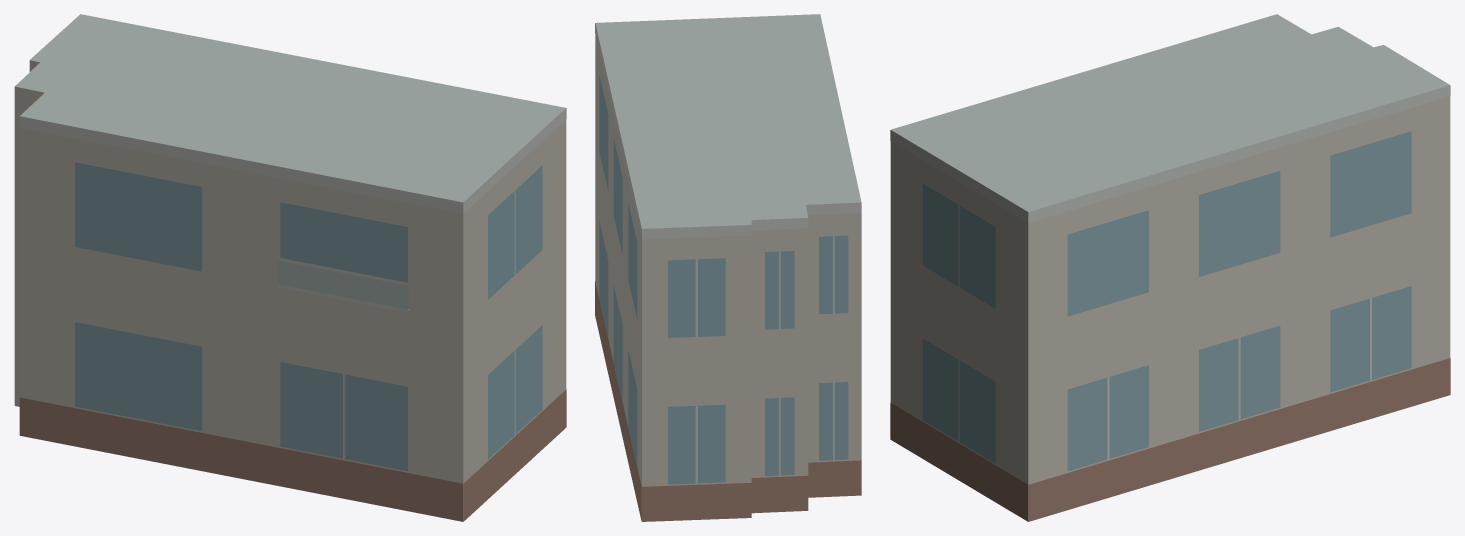
Rendered from survey-upis-32625568.glb.
The picture shows the model from 3 angles, left to right: view 1: azimuth 30°, elevation 25°; view 2: azimuth 150°, elevation 25°; view 3: azimuth 270°, elevation 25°; orthographic projection. The views are drawn at different scales.
Visible parts, largest first — view 1: survey-upis-32625568.tmp; view 2: survey-upis-32625568.tmp; view 3: survey-upis-32625568.tmp.
Boxes of the visible parts, x1,y1,x2,y2 form: survey-upis-32625568.tmp: (14, 14, 566, 521); survey-upis-32625568.tmp: (595, 14, 861, 521); survey-upis-32625568.tmp: (890, 14, 1450, 521).
Bounding box in the file's own units: 9.47 × 6.9 × 11.31.
